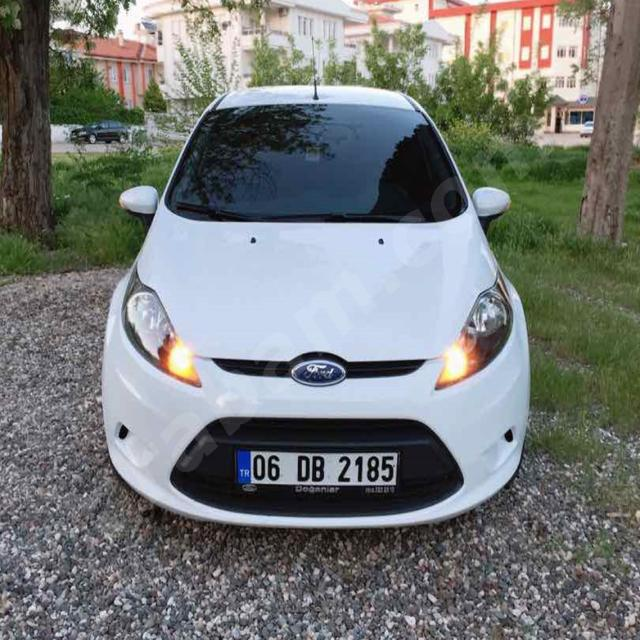license_plate: (235, 448, 398, 486)
